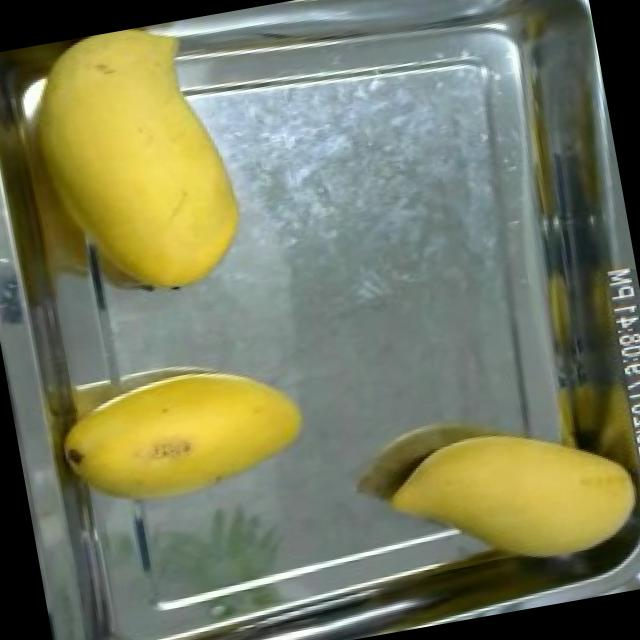fruit: (0, 14, 258, 322), (364, 398, 640, 600), (42, 344, 321, 530)
